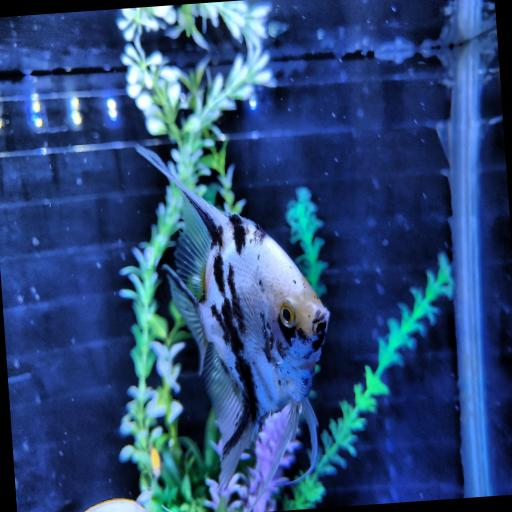Fish: (136, 147, 328, 489)
